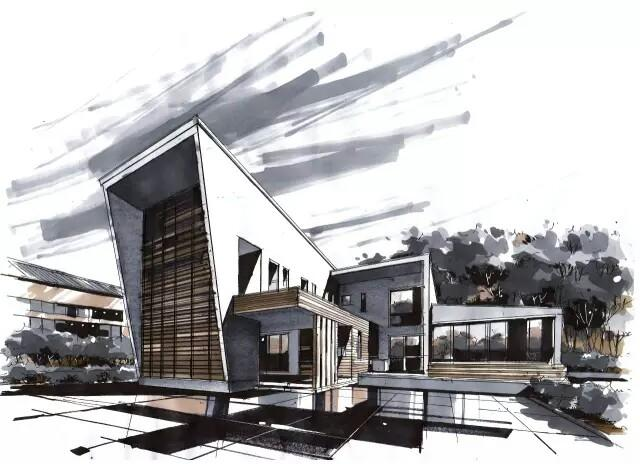buildings: (57, 115, 365, 411)
